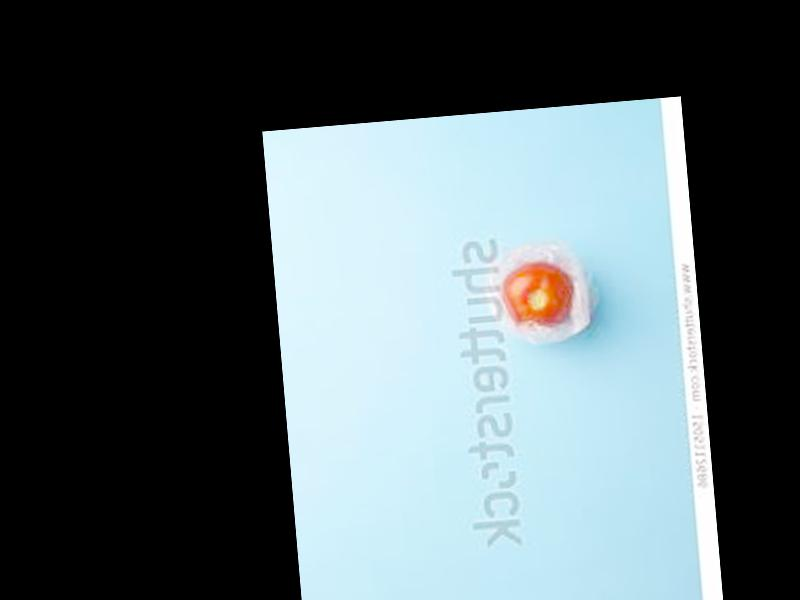Tomato: (500, 261, 574, 331)
